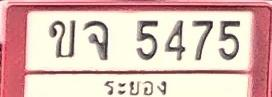4: (164, 18, 186, 60)
5: (136, 19, 158, 60), (218, 19, 240, 60)
7: (191, 19, 213, 61)
A02: (48, 19, 76, 58)
A08: (82, 20, 108, 60)
RYG: (98, 76, 176, 97)
